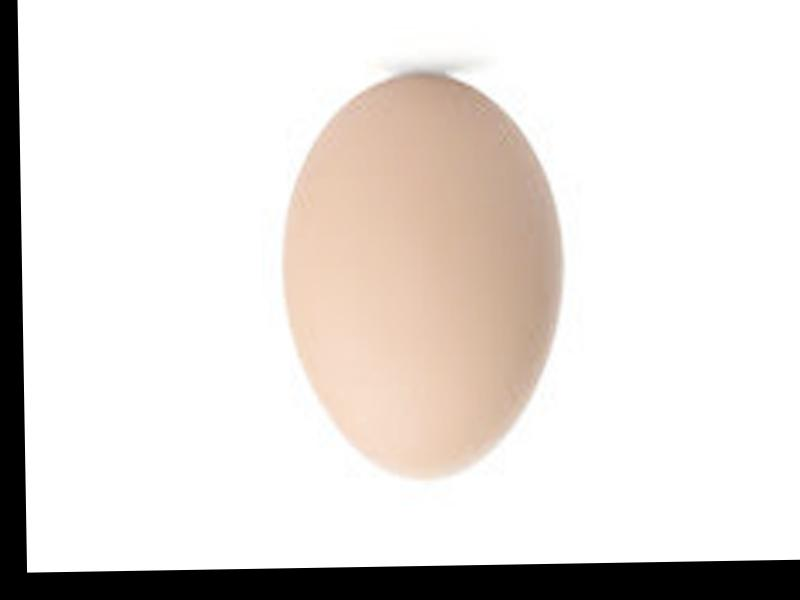Eggs: (282, 68, 565, 477)
